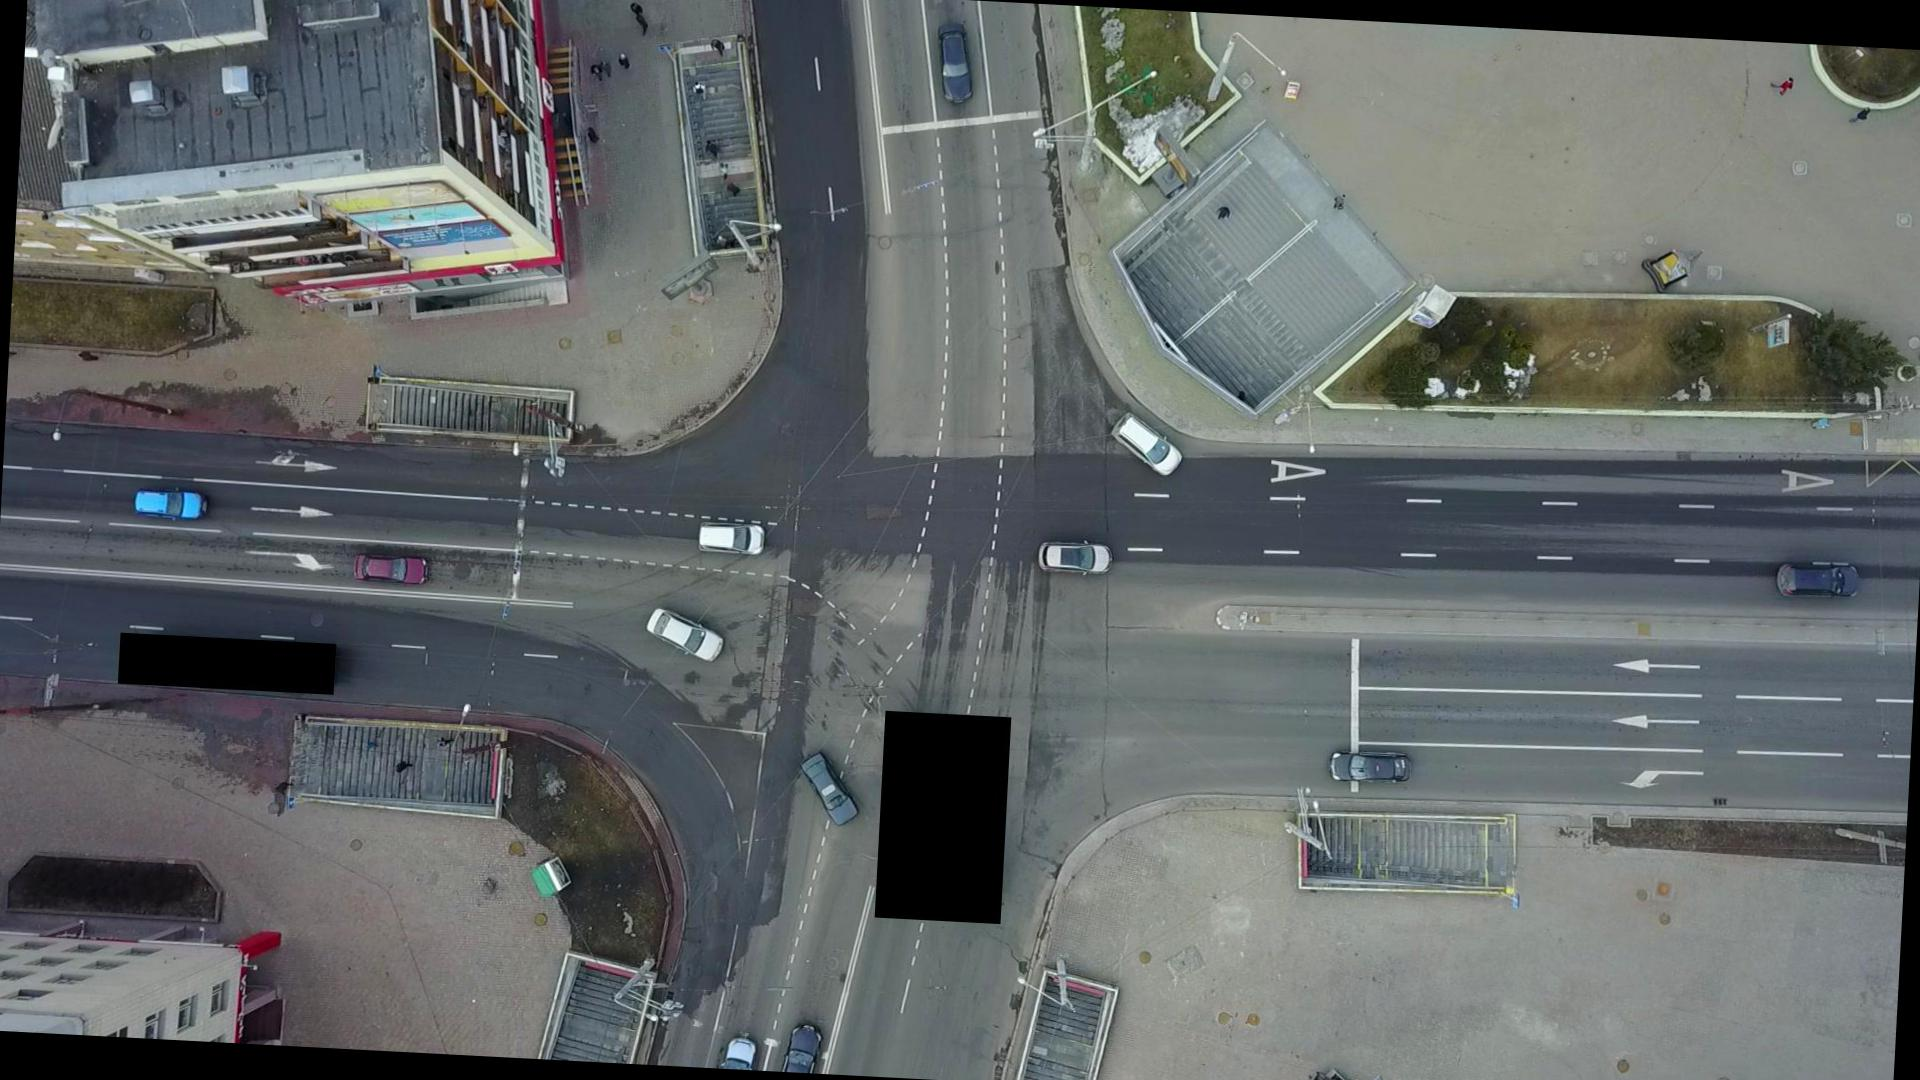vehicle: (796, 750, 864, 827), (1109, 410, 1185, 476), (644, 604, 727, 662), (932, 18, 977, 104), (1774, 560, 1862, 601), (1327, 746, 1415, 785), (1036, 535, 1114, 576), (131, 483, 208, 524), (352, 551, 430, 585), (696, 520, 766, 555)
